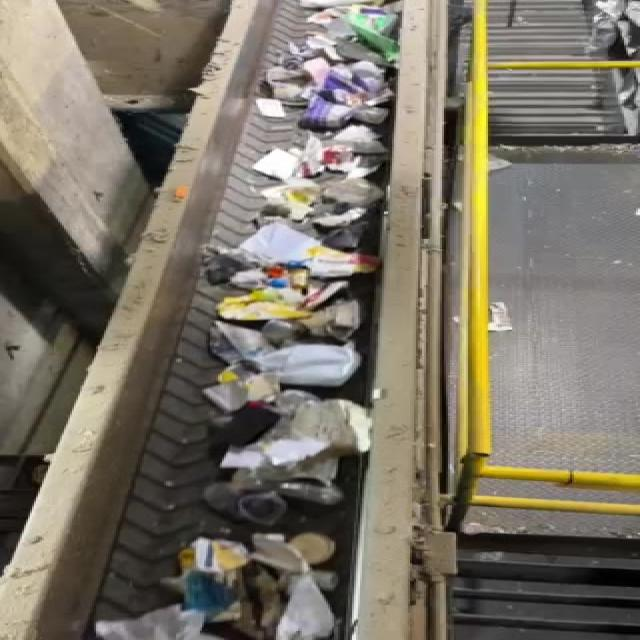paper: (175, 539, 341, 639), (294, 396, 378, 458)
pp: (192, 480, 353, 526)
